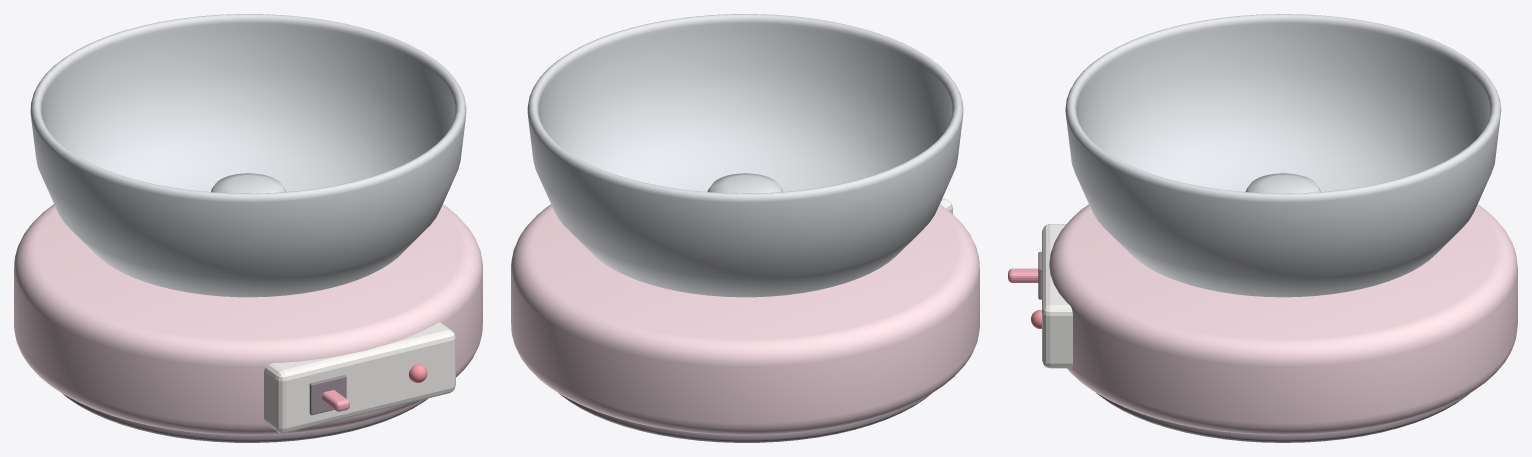
Rendered from WataameMachine.fbx.
3 renders of one model, left to right at view 1: azimuth 30°, elevation 25°; view 2: azimuth 150°, elevation 25°; view 3: azimuth 270°, elevation 25°, orthographic.
Visible parts, largest first — view 1: Bowl, Base, Panel, Foot, Head, SwitchPlate; view 2: Bowl, Base, Foot, Head; view 3: Bowl, Base, Panel, Foot, Head.
Boxes of the visible parts, x1=… form: Bowl: x1=30, y1=14, x2=466, y2=297; Base: x1=14, y1=204, x2=482, y2=435; Panel: x1=264, y1=322, x2=455, y2=433; Foot: x1=62, y1=393, x2=428, y2=442; Head: x1=211, y1=173, x2=286, y2=193; SwitchPlate: x1=309, y1=375, x2=346, y2=415; Bowl: x1=527, y1=14, x2=963, y2=297; Base: x1=511, y1=204, x2=979, y2=435; Foot: x1=558, y1=393, x2=931, y2=442; Head: x1=707, y1=173, x2=782, y2=193; Bowl: x1=1065, y1=14, x2=1501, y2=297; Base: x1=1049, y1=204, x2=1517, y2=435; Panel: x1=1042, y1=224, x2=1072, y2=368; Foot: x1=1096, y1=393, x2=1469, y2=442; Head: x1=1245, y1=173, x2=1320, y2=193.
Size of the model in its own units: 0.68 by 0.402 by 0.739.
